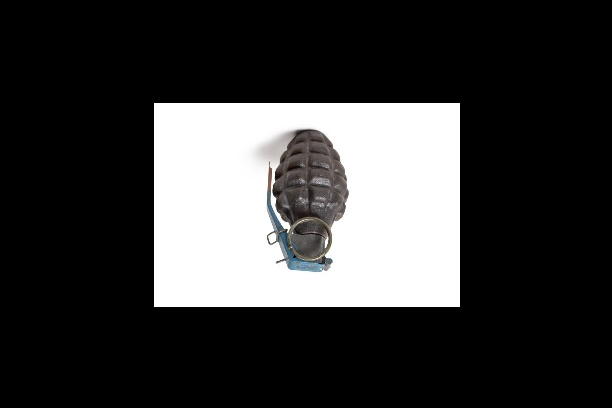e1: (261, 124, 347, 275)
